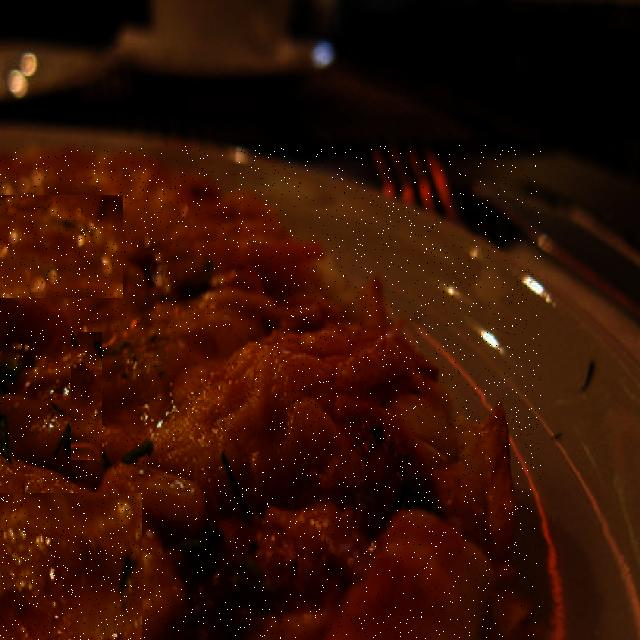Cheese: (104, 329, 270, 465), (0, 493, 142, 640), (0, 195, 123, 298), (72, 332, 104, 460)
Pizza: (0, 146, 541, 640)
